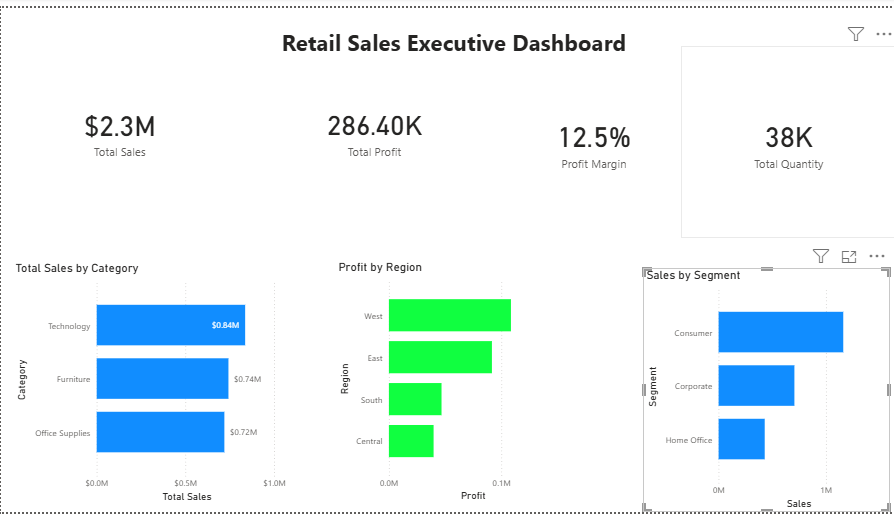

Layout of this report page (visuals, bound fields, positions):
{"tool":"powerbi","page":{"name":"Executive Overview","canvas":[1280,720],"ordinal":0},"visuals":[{"type":"card","fields":{"Values":["SampleSuperstore.Total Sales"]},"box":[15.8,38.9,308.2,273.6],"z":0},{"type":"card","fields":{"Values":["SampleSuperstore.Total Profit"]},"box":[373.8,39.3,318.5,273.5],"z":1000},{"type":"card","fields":{"Values":["SampleSuperstore.Profit Margin"]},"box":[692.4,53.8,308.4,274.9],"z":2000},{"type":"card","fields":{"Values":["SampleSuperstore.Total Quantity"]},"box":[971.6,53.8,308.4,274.9],"z":3000},{"type":"clusteredBarChart","fields":{"Category":["SampleSuperstore.Category"],"Y":["SampleSuperstore.Total Sales"]},"box":[16,360.7,401.5,349.1],"z":4000},{"type":"clusteredBarChart","fields":{"Category":["SampleSuperstore.Region"],"Y":["Sum(SampleSuperstore.Profit)"]},"box":[477.6,360.6,337.2,349.6],"z":5000},{"type":"clusteredBarChart","fields":{"Y":["Sum(SampleSuperstore.Sales)"],"Category":["SampleSuperstore.Segment"]},"box":[917.8,370.9,352,349.1],"z":6000},{"type":"textbox","box":[377.3,21.6,540,63.4],"z":7000}]}

Visuals, with their boxes on the page's 1280x720 design canvas (x1, y1, x2, y2). These are canvas units, not pixel positions in the 894x523 screenshot, which may show the page scaled, cropped or inside an application window:
card - SampleSuperstore.Total Sales: 16,39,324,312
card - SampleSuperstore.Total Profit: 374,39,692,313
card - SampleSuperstore.Profit Margin: 692,54,1001,329
card - SampleSuperstore.Total Quantity: 972,54,1280,329
clusteredBarChart - SampleSuperstore.Category x SampleSuperstore.Total Sales: 16,361,418,710
clusteredBarChart - SampleSuperstore.Region x Sum(SampleSuperstore.Profit): 478,361,815,710
clusteredBarChart - Sum(SampleSuperstore.Sales) x SampleSuperstore.Segment: 918,371,1270,720
textbox: 377,22,917,85
